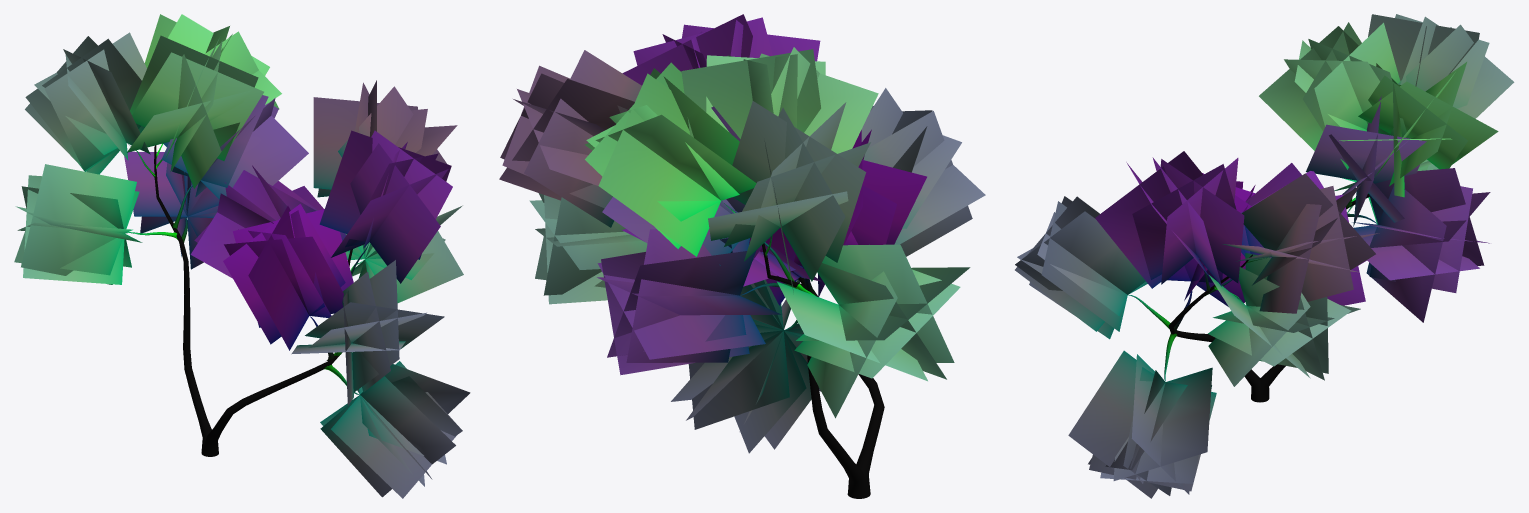
File: URP_P6_Tree_6_LOD_1.fbx
3 renders of one model, left to right at view 1: azimuth 30°, elevation 25°; view 2: azimuth 150°, elevation 25°; view 3: azimuth 270°, elevation 25°, orthographic. The views are drawn at different scales.
Parts seen in each view (by area): view 1: Tree_6_LOD_1; view 2: Tree_6_LOD_1; view 3: Tree_6_LOD_1.
Boxes of the visible parts, <box> form: Tree_6_LOD_1: <box>14,14,470,498</box>; Tree_6_LOD_1: <box>499,14,985,498</box>; Tree_6_LOD_1: <box>1015,14,1514,498</box>.
Bounding box in the file's own units: 671 × 667 × 726.
